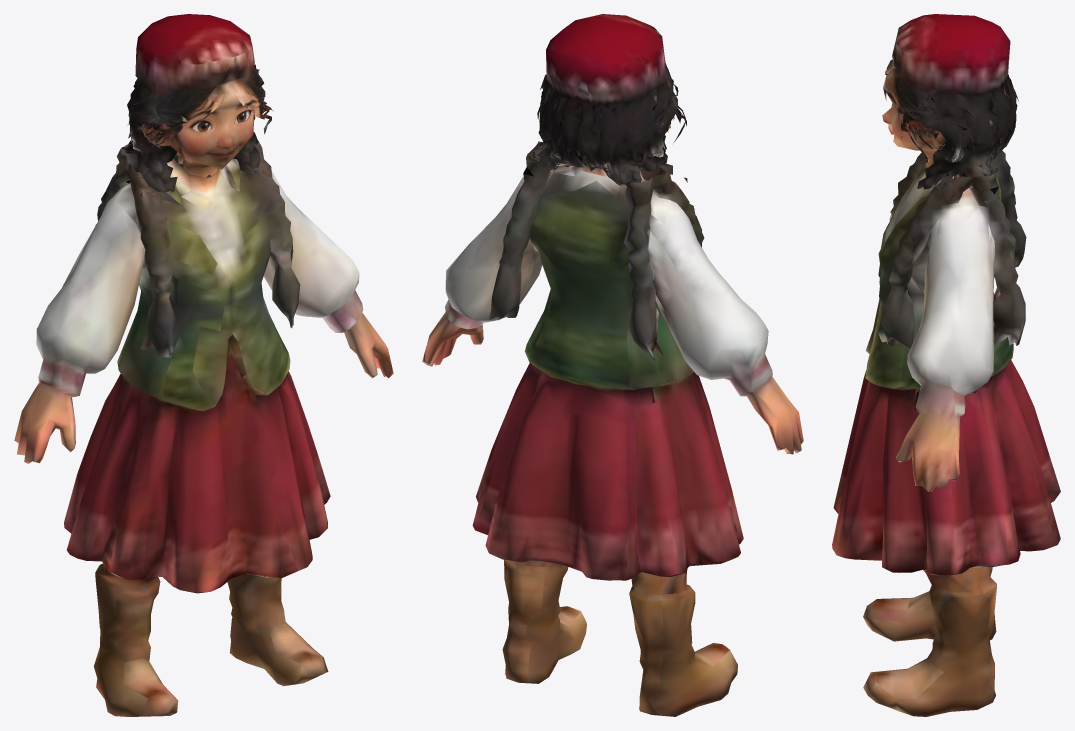
The model's file is child.gen.phone.glb.
3 views of the same model, side by side, from view 1: azimuth 30°, elevation 25°; view 2: azimuth 150°, elevation 25°; view 3: azimuth 270°, elevation 25° (orthographic). The views are drawn at different scales.
Visible parts, largest first — view 1: child.raw; view 2: child.raw; view 3: child.raw.
Part boxes in pixels (<box>): child.raw: <box>14,14,393,716</box>; child.raw: <box>422,14,803,716</box>; child.raw: <box>832,14,1060,716</box>.
Bounding box in the file's own units: 0.6729 × 1.15 × 0.3693.
1 material, 1 textured.
